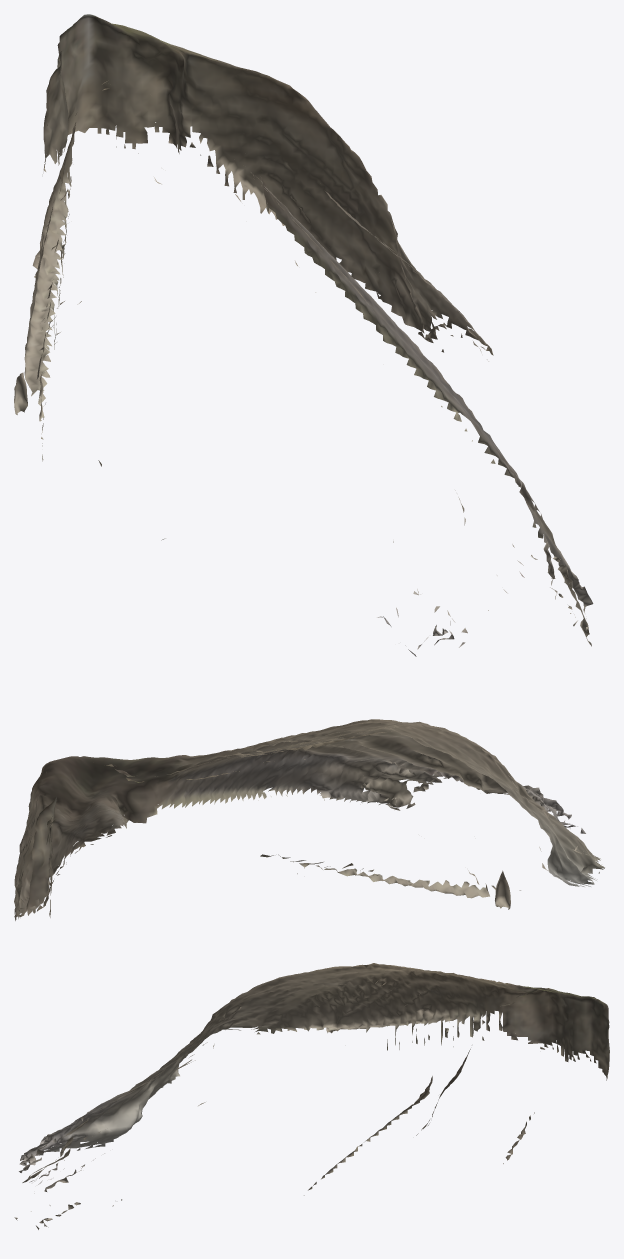
The model's file is collider.glb.
3 renders of one model, top to bottom at view 1: azimuth 30°, elevation 25°; view 2: azimuth 150°, elevation 25°; view 3: azimuth 270°, elevation 25°, orthographic. The views are drawn at different scales.
Parts seen in each view (by area): view 1: world; view 2: world; view 3: world.
Boxes of the visible parts, bbox=[...] form: world: bbox=[14, 14, 593, 656]; world: bbox=[14, 719, 604, 920]; world: bbox=[14, 963, 609, 1229].
Bounding box in the file's own units: 38.47 × 25.06 × 60.68.
